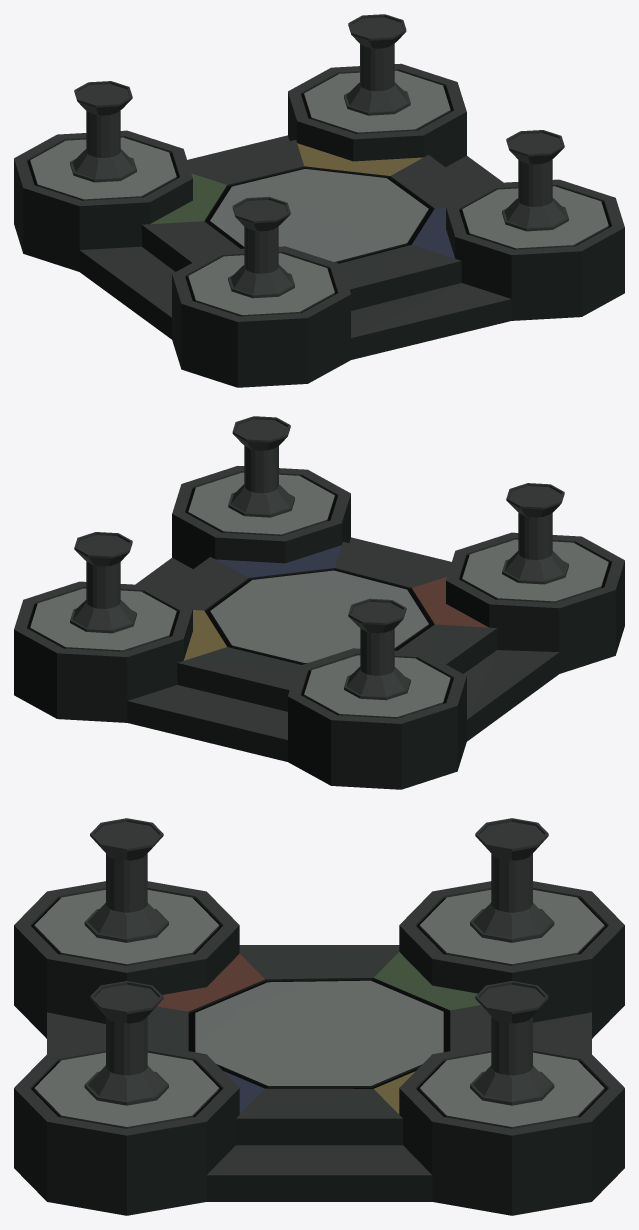
File: Altar.fbx
3 views of the same model, one above another, from view 1: azimuth 30°, elevation 25°; view 2: azimuth 150°, elevation 25°; view 3: azimuth 270°, elevation 25° (orthographic). The views are drawn at different scales.
Parts seen in each view (by area): view 1: AltarBase, AltarPillar001, AltarPillar002, AltarPillar004, AltarPillar003, OfferingPillar004, OfferingPillar001, OfferingPillar003, OfferingPillar002; view 2: AltarBase, AltarPillar004, AltarPillar003, AltarPillar001, AltarPillar002, OfferingPillar002, OfferingPillar003, OfferingPillar004, OfferingPillar001; view 3: AltarBase, AltarPillar003, AltarPillar002, AltarPillar001, AltarPillar004, OfferingPillar004, OfferingPillar002, OfferingPillar001, OfferingPillar003.
Part boxes in pixels (left/top/right/bottom): AltarBase: left=79, top=135, right=511, bottom=359; AltarPillar001: left=172, top=246, right=350, bottom=387; AltarPillar002: left=446, top=179, right=624, bottom=320; AltarPillar004: left=14, top=130, right=192, bottom=271; AltarPillar003: left=288, top=63, right=466, bottom=167; OfferingPillar004: left=344, top=14, right=410, bottom=115; OfferingPillar001: left=228, top=196, right=294, bottom=298; OfferingPillar003: left=70, top=81, right=136, bottom=182; OfferingPillar002: left=502, top=130, right=568, bottom=231; AltarBase: left=127, top=537, right=559, bottom=761; AltarPillar004: left=288, top=648, right=466, bottom=789; AltarPillar003: left=14, top=581, right=192, bottom=722; AltarPillar001: left=446, top=532, right=624, bottom=673; AltarPillar002: left=172, top=466, right=350, bottom=569; OfferingPillar002: left=228, top=416, right=294, bottom=517; OfferingPillar003: left=344, top=598, right=410, bottom=700; OfferingPillar004: left=70, top=532, right=136, bottom=633; OfferingPillar001: left=502, top=483, right=568, bottom=584; AltarBase: left=47, top=945, right=591, bottom=1201; AltarPillar003: left=399, top=1044, right=624, bottom=1215; AltarPillar002: left=14, top=1044, right=239, bottom=1215; AltarPillar001: left=14, top=881, right=239, bottom=1038; AltarPillar004: left=399, top=881, right=624, bottom=1038; OfferingPillar004: left=470, top=981, right=554, bottom=1105; OfferingPillar002: left=84, top=981, right=168, bottom=1105; OfferingPillar001: left=84, top=818, right=168, bottom=942; OfferingPillar003: left=470, top=818, right=554, bottom=942.
Bounding box in the file's own units: 518 × 161 × 518.
